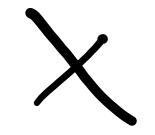mult: (25, 7, 138, 127)
